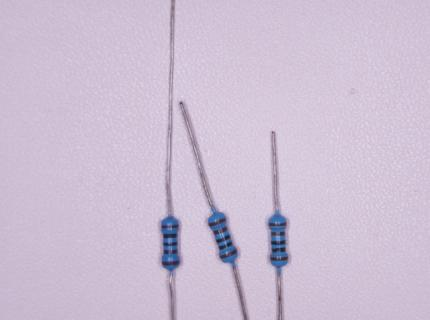Black band: (216, 234, 231, 244), (219, 241, 233, 250), (163, 233, 177, 238), (271, 240, 285, 245), (163, 242, 177, 246), (272, 248, 286, 252)
Brown band: (220, 249, 237, 259), (209, 217, 226, 227), (213, 226, 227, 235), (270, 256, 288, 261), (162, 260, 179, 265), (164, 249, 178, 254), (161, 225, 179, 228), (269, 223, 286, 226), (271, 232, 285, 235)
